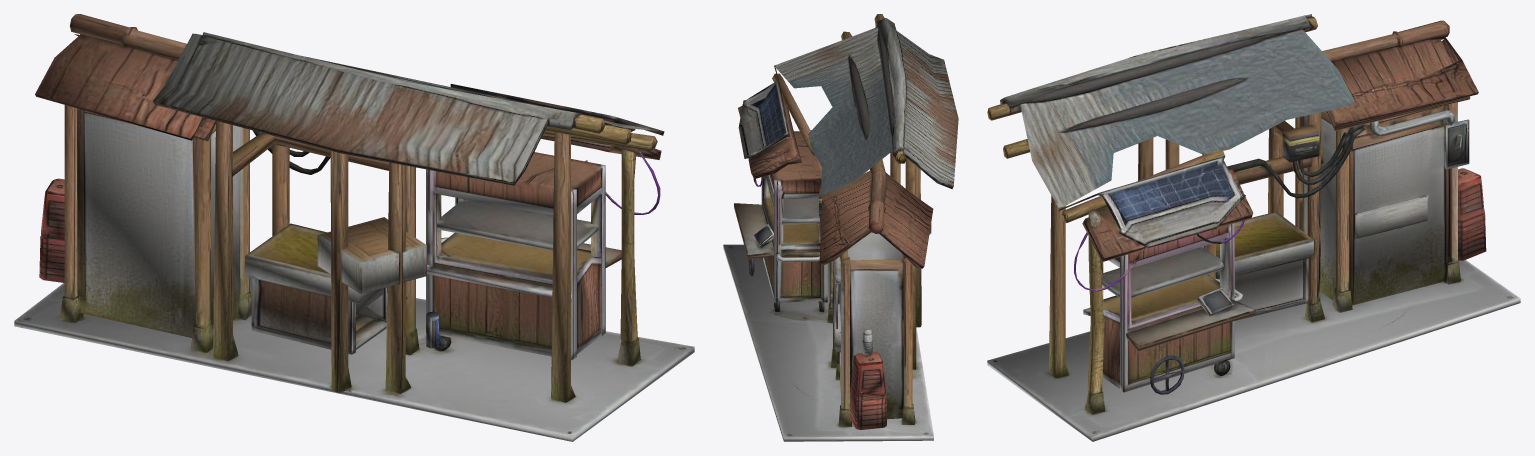
File: city_food_stalls.glb
3 renders of one model, left to right at view 1: azimuth 30°, elevation 25°; view 2: azimuth 150°, elevation 25°; view 3: azimuth 270°, elevation 25°, orthographic. The views are drawn at different scales.
Visible parts, largest first — view 1: Body; view 2: Body; view 3: Body.
Part boxes in pixels (x1=…): Body: x1=14, y1=14, x2=694, y2=441; Body: x1=723, y1=14, x2=958, y2=441; Body: x1=987, y1=14, x2=1520, y2=441.
Size of the model in its own units: 6 by 3.78 by 6.68.
Materials: 1 (1 with a texture image).
